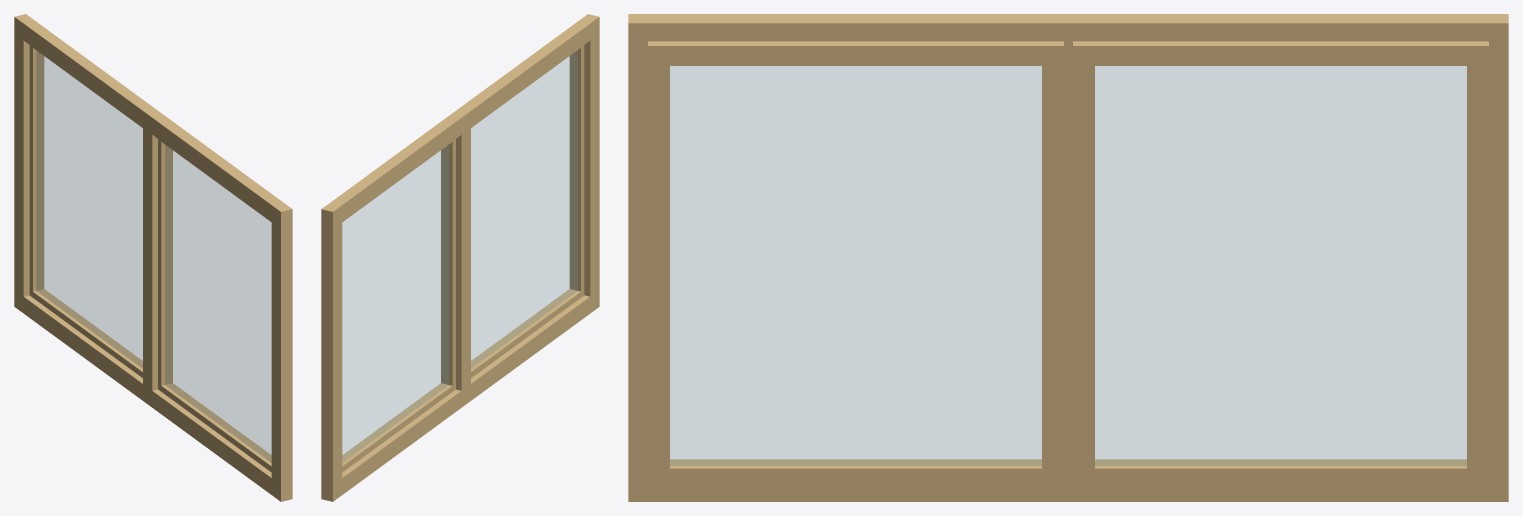
File: fzk-haus-window-1.glb
3 views of the same model, side by side, from view 1: azimuth 30°, elevation 25°; view 2: azimuth 150°, elevation 25°; view 3: azimuth 270°, elevation 25° (orthographic). The views are drawn at different scales.
Parts seen in each view (by area): view 1: opening; view 2: opening; view 3: opening.
Boxes of the visible parts, x1=… form: opening: x1=14, y1=14, x2=292, y2=501; opening: x1=321, y1=14, x2=599, y2=501; opening: x1=628, y1=14, x2=1508, y2=501.
Size of the model in its own units: 0.075 by 1.2 by 2.
